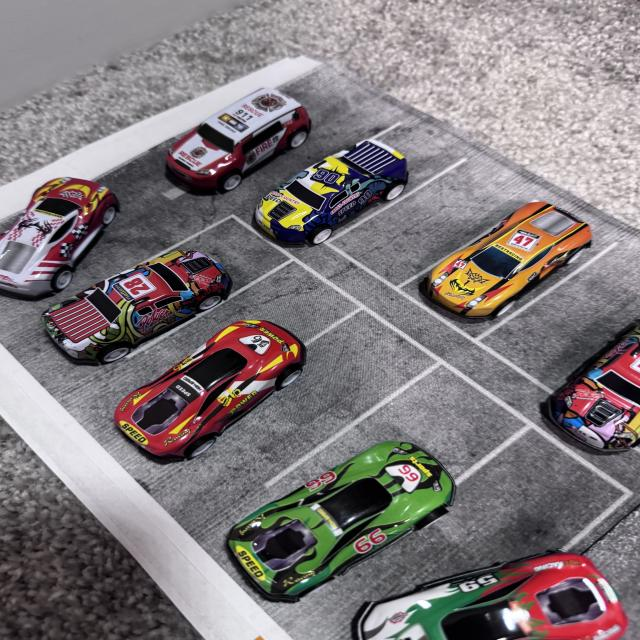car: (213, 431, 471, 640), (91, 300, 330, 494), (407, 160, 602, 336), (0, 169, 260, 299), (36, 227, 240, 383), (366, 541, 640, 640), (129, 82, 294, 202), (499, 324, 640, 453), (255, 140, 418, 237)
